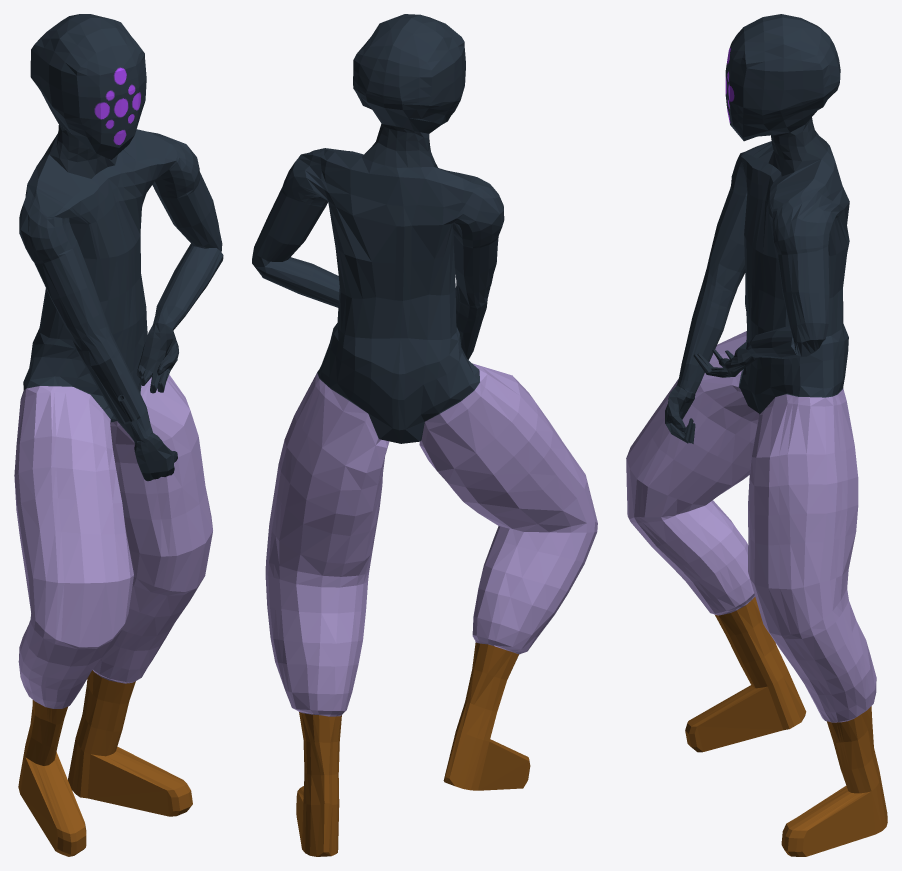
The model's file is Oracle_WR_000008.obj.
3 views of the same model, side by side, from view 1: azimuth 30°, elevation 25°; view 2: azimuth 150°, elevation 25°; view 3: azimuth 270°, elevation 25° (orthographic). The views are drawn at different scales.
Parts seen in each view (by area): view 1: Cube; view 2: Cube; view 3: Cube.
Part boxes in pixels (bbox=[...]): Cube: bbox=[14, 14, 223, 856]; Cube: bbox=[252, 14, 597, 856]; Cube: bbox=[626, 14, 887, 856].
Size of the model in its own units: 1.29 by 3.85 by 1.15.
